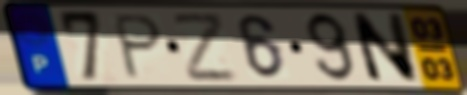6: (235, 13, 288, 82)
7: (55, 7, 107, 86)
9: (303, 11, 358, 86)
N: (347, 10, 422, 85)
P: (112, 12, 166, 81)
Z: (169, 10, 241, 84)
